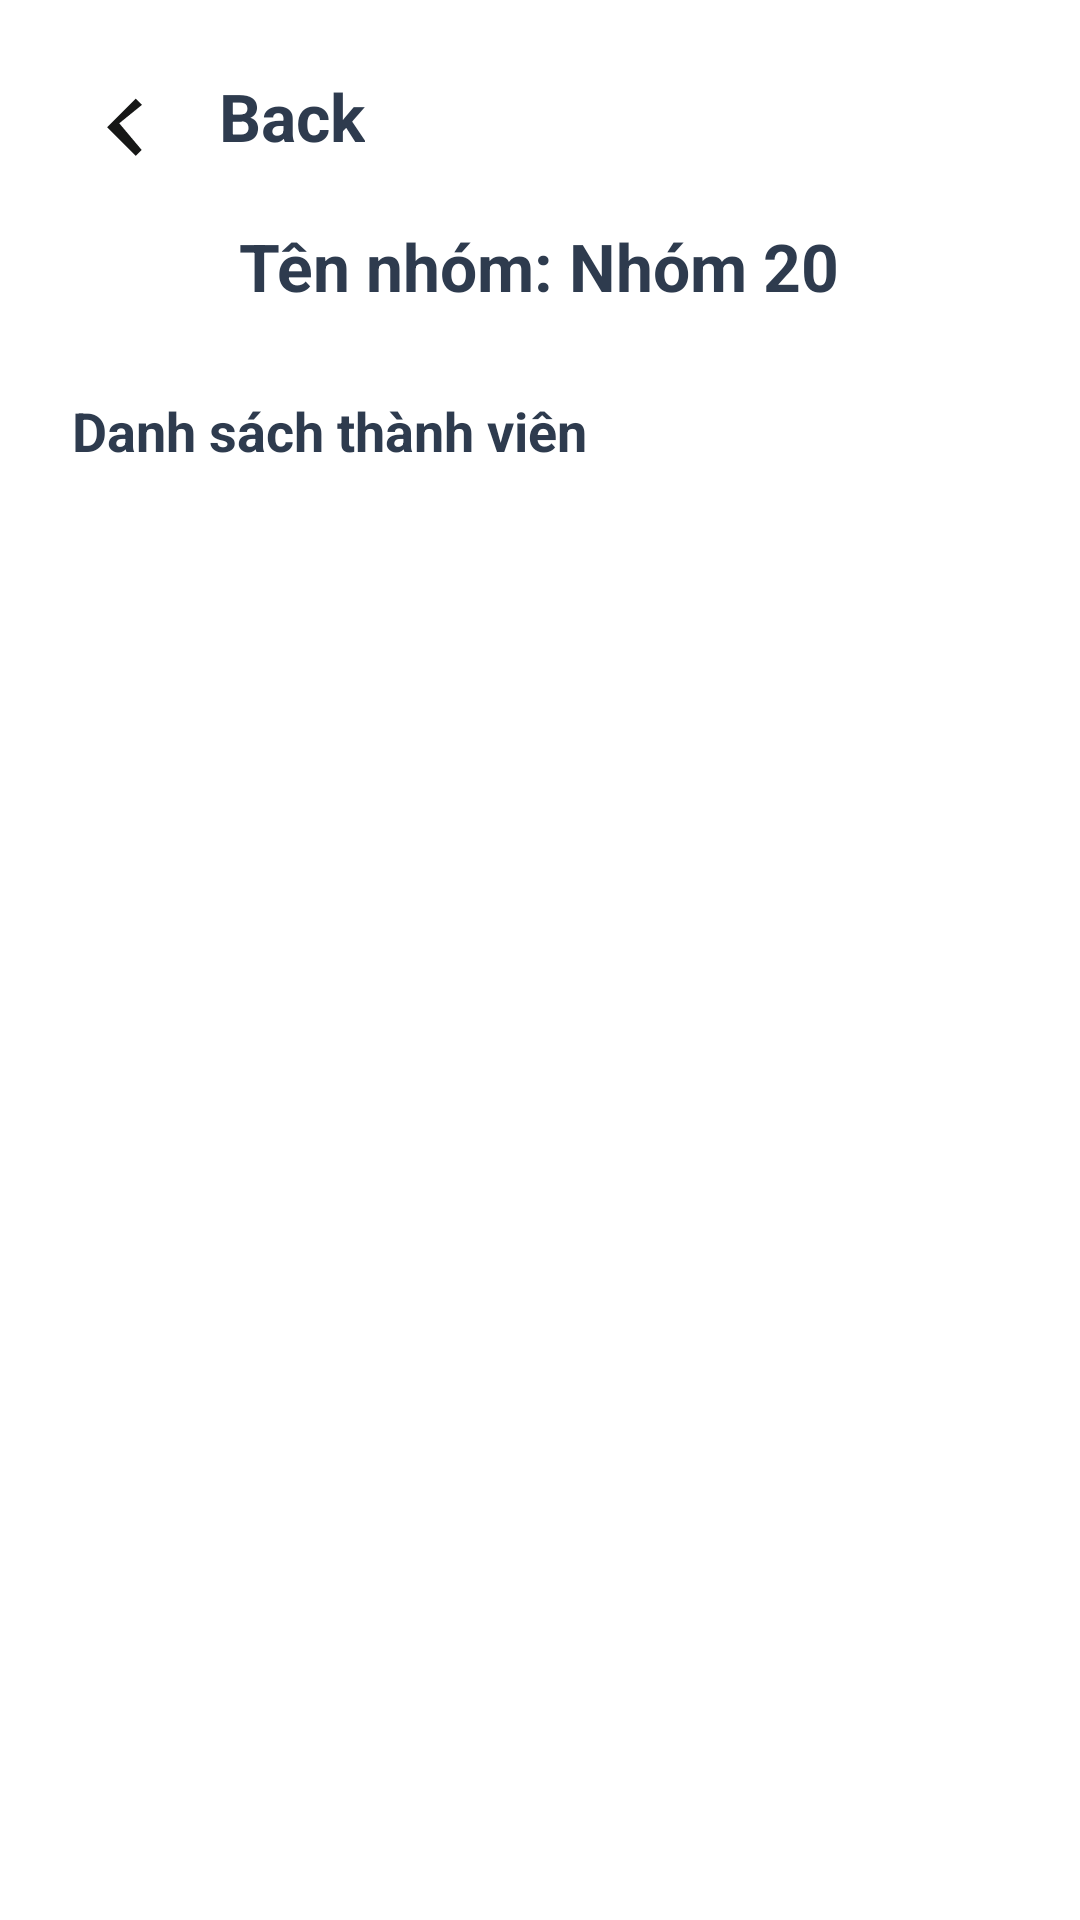

Screen size 1080*1920. Icon name, then its box in pixels as (x1, y1, x2, y2):
left: (107, 98, 142, 156)
